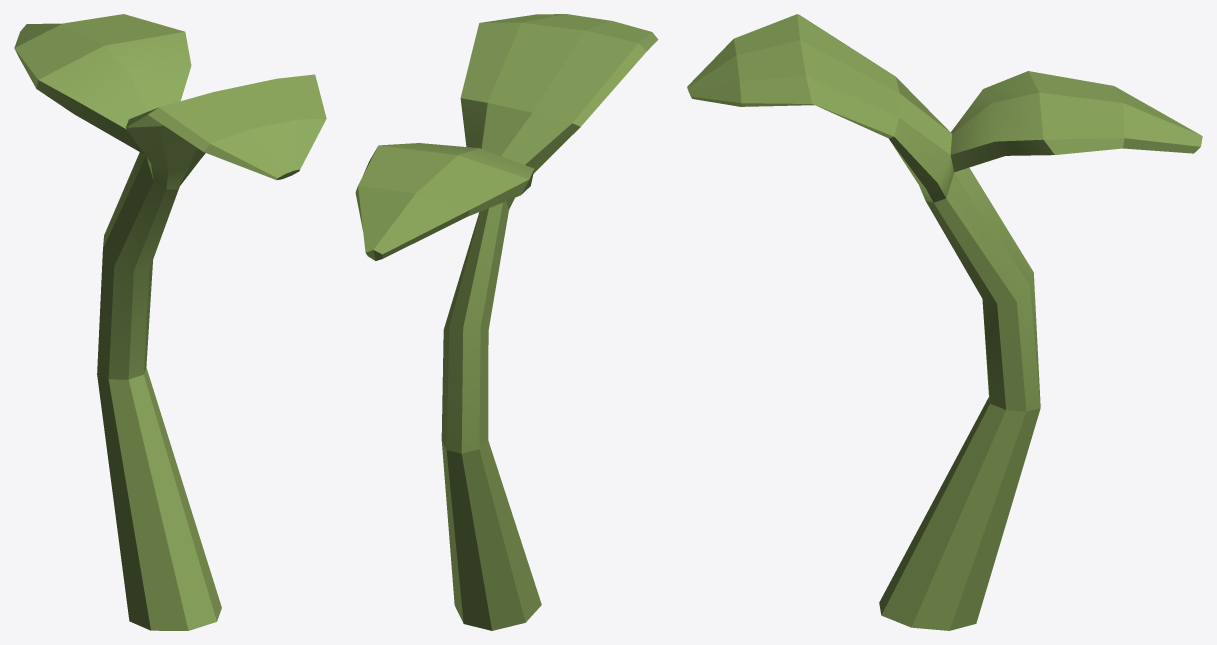
Rendered from Seedling_MOD_01.fbx.
3 views of the same model, side by side, from view 1: azimuth 30°, elevation 25°; view 2: azimuth 150°, elevation 25°; view 3: azimuth 270°, elevation 25° (orthographic). The views are drawn at different scales.
Visible parts, largest first — view 1: Seedling_MOD_01; view 2: Seedling_MOD_01; view 3: Seedling_MOD_01.
Boxes of the visible parts, x1,y1,x2,y2 form: Seedling_MOD_01: (14, 14, 326, 630); Seedling_MOD_01: (355, 14, 658, 630); Seedling_MOD_01: (687, 14, 1202, 630).
Bounding box in the file's own units: 0.6295 × 2.02 × 1.67.
